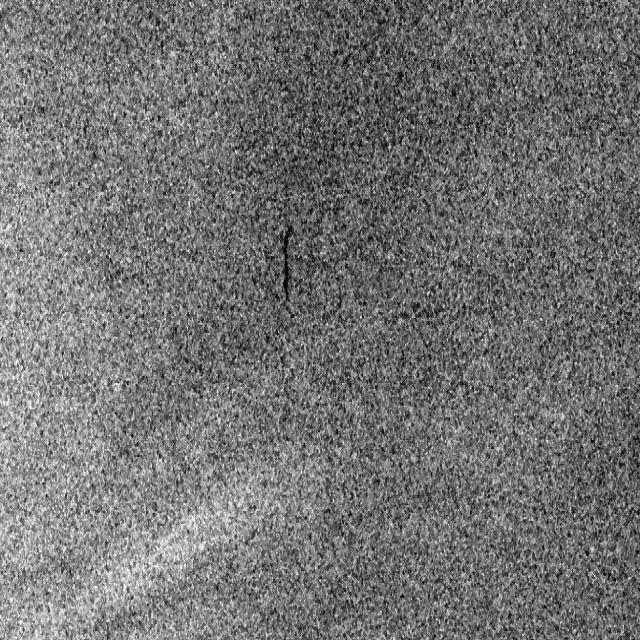oil-spill: (268, 218, 308, 314)
